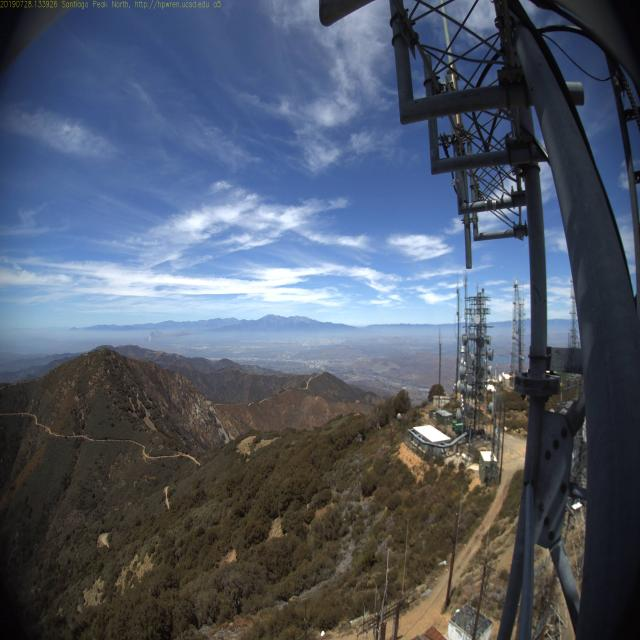smoke: (140, 318, 166, 350)
